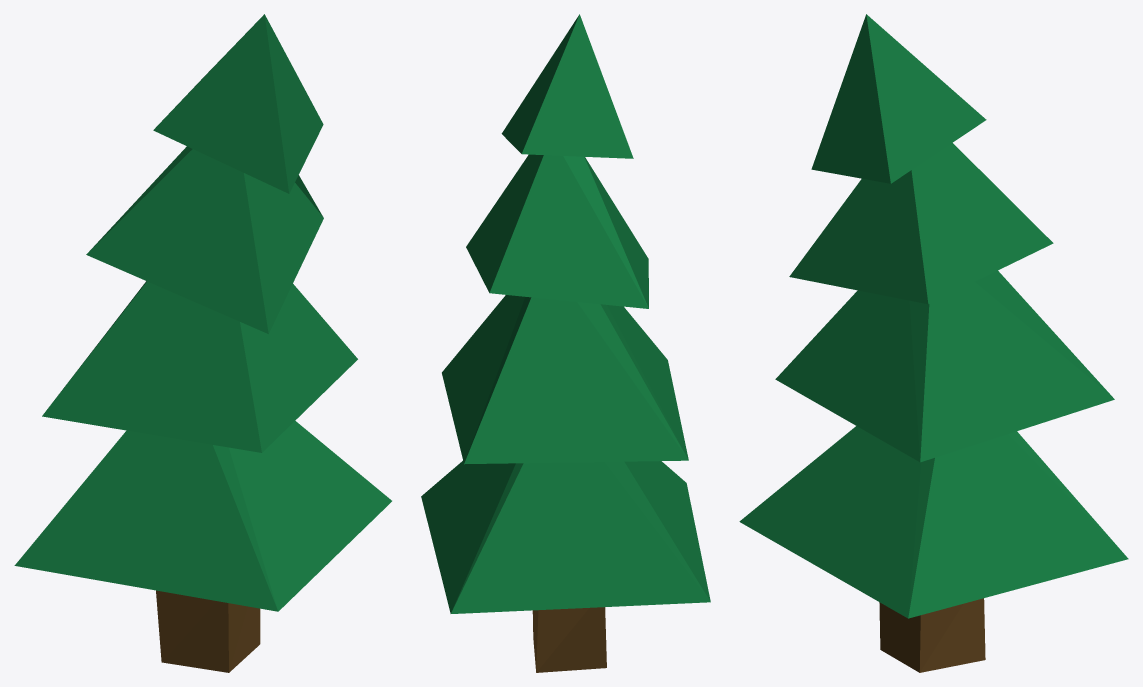
Rendered from 240519_tree_spruce_02.glb.
The picture shows the model from 3 angles, left to right: view 1: azimuth 30°, elevation 25°; view 2: azimuth 150°, elevation 25°; view 3: azimuth 270°, elevation 25°; orthographic projection. The views are drawn at different scales.
Visible parts, largest first — view 1: Cube.006; view 2: Cube.006; view 3: Cube.006.
Boxes of the visible parts, box(x1,y1,x2,y2) form: Cube.006: box(14, 14, 391, 672); Cube.006: box(421, 14, 710, 672); Cube.006: box(739, 14, 1128, 672).
Size of the model in its own units: 2.6 by 4.77 by 2.58.
